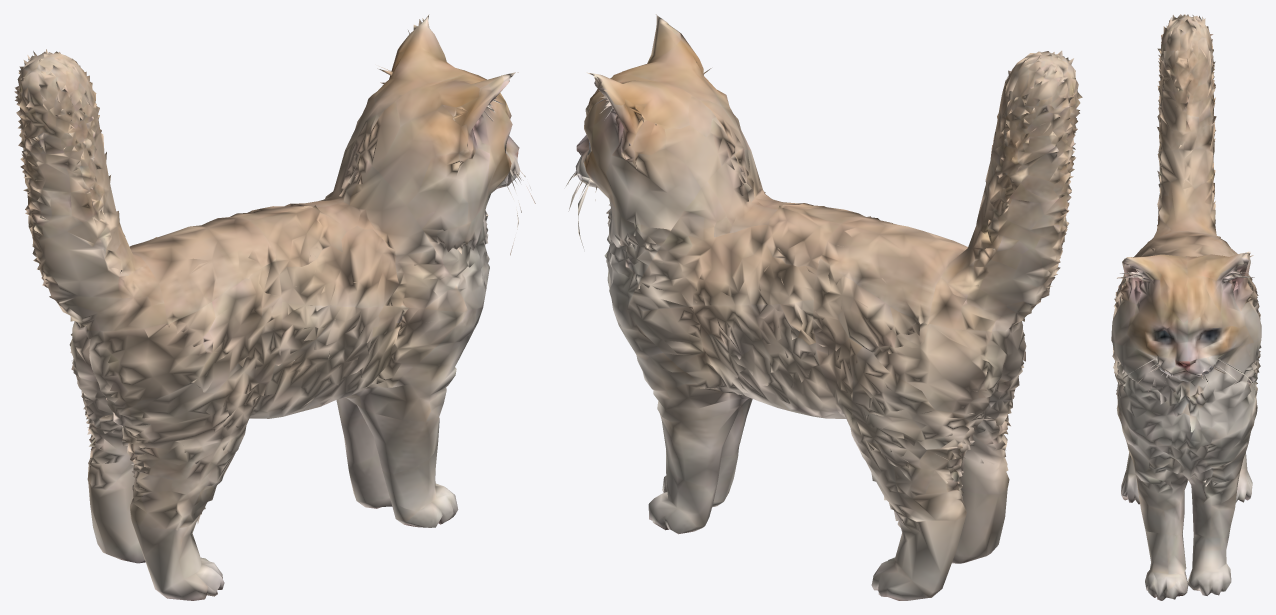
Rendered from PRINCEKIT-lo.glb.
The picture shows the model from 3 angles, left to right: view 1: azimuth 30°, elevation 25°; view 2: azimuth 150°, elevation 25°; view 3: azimuth 270°, elevation 25°; orthographic projection. The views are drawn at different scales.
Parts seen in each view (by area): view 1: tripo_node_a77029b4-e4a6-4bb7-bd3d-8793613209bc; view 2: tripo_node_a77029b4-e4a6-4bb7-bd3d-8793613209bc; view 3: tripo_node_a77029b4-e4a6-4bb7-bd3d-8793613209bc.
Part boxes in pixels (x1=…): tripo_node_a77029b4-e4a6-4bb7-bd3d-8793613209bc: x1=14, y1=14, x2=535, y2=600; tripo_node_a77029b4-e4a6-4bb7-bd3d-8793613209bc: x1=566, y1=14, x2=1082, y2=600; tripo_node_a77029b4-e4a6-4bb7-bd3d-8793613209bc: x1=1111, y1=14, x2=1261, y2=600.
Size of the model in its own units: 0.9537 by 0.9982 by 0.3122.
Materials: 1 (1 with a texture image).
